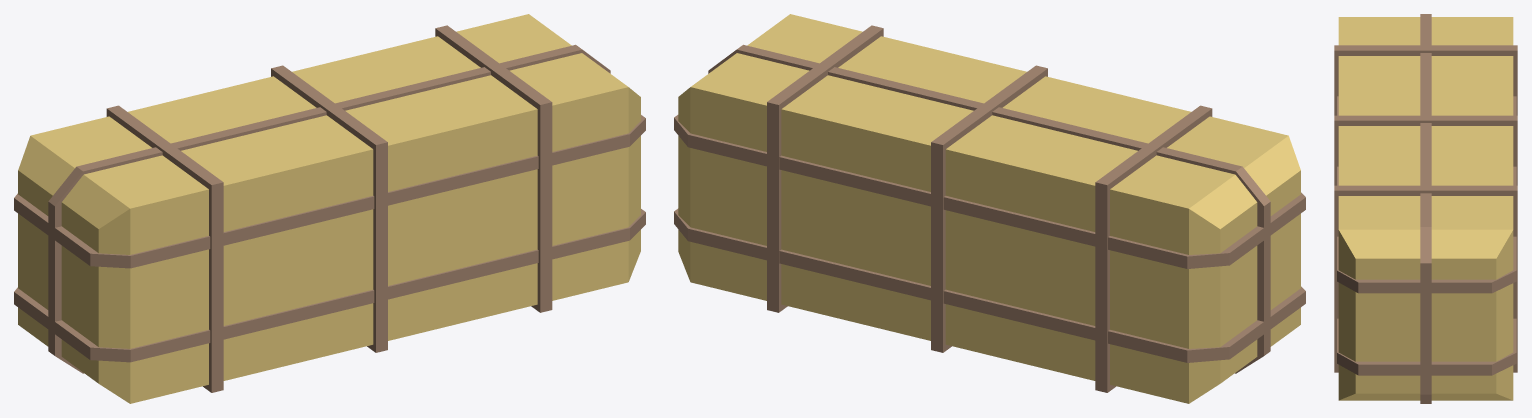
The model's file is straw.glb.
3 views of the same model, side by side, from view 1: azimuth 30°, elevation 25°; view 2: azimuth 150°, elevation 25°; view 3: azimuth 270°, elevation 25° (orthographic). The views are drawn at different scales.
Visible parts, largest first — view 1: Object_2; view 2: Object_2; view 3: Object_2.
Part boxes in pixels (bbox=[...]): Object_2: bbox=[14, 14, 645, 403]; Object_2: bbox=[674, 14, 1305, 403]; Object_2: bbox=[1334, 14, 1517, 403].
Size of the model in its own units: 2.47 by 0.8835 by 0.8084.
Materials: 1 (1 with a texture image).
